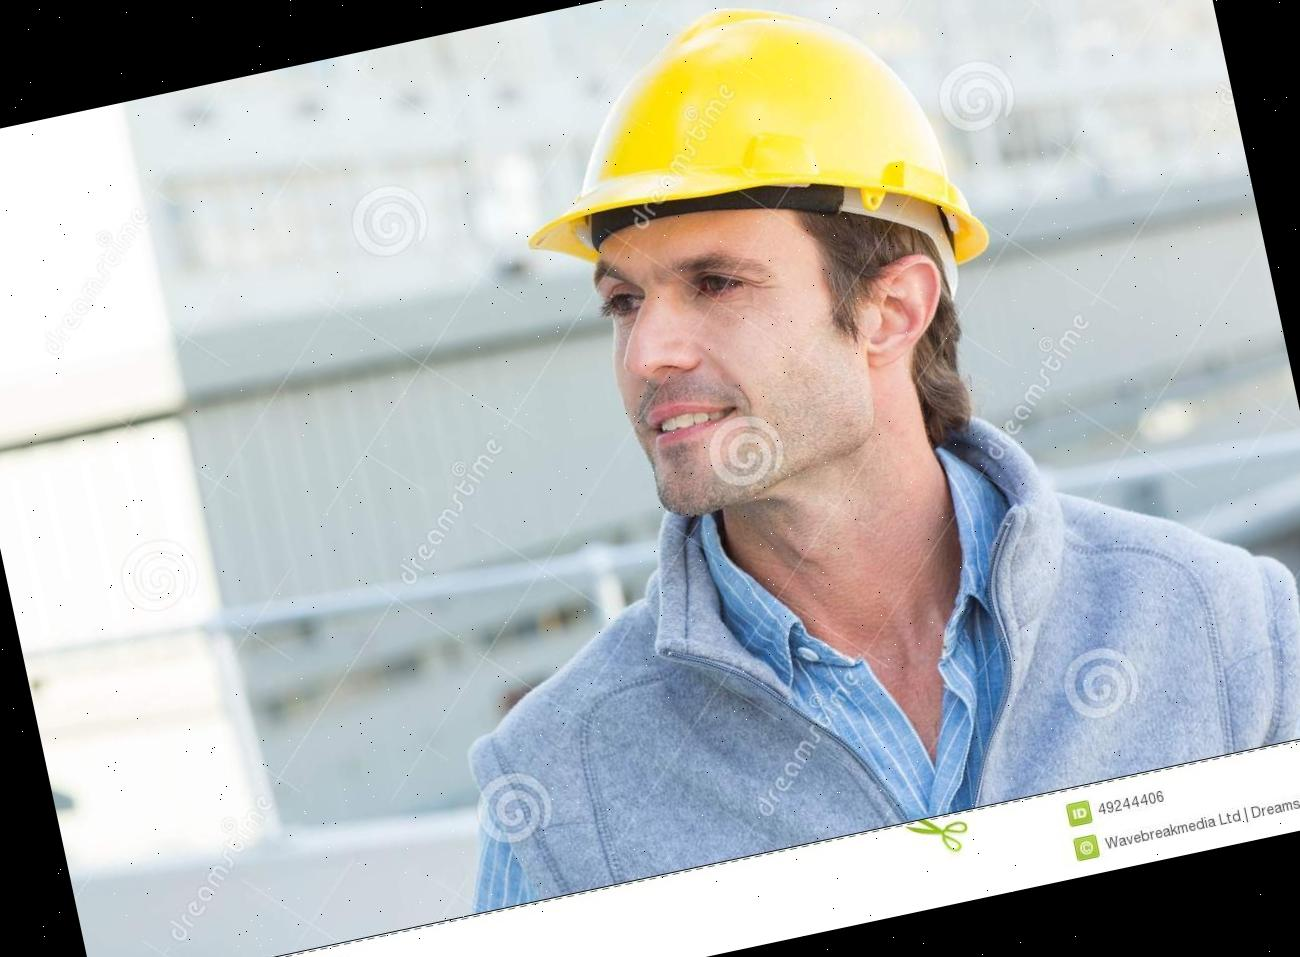helmet: (476, 0, 1007, 349)
no_wear: (412, 474, 1300, 914)
